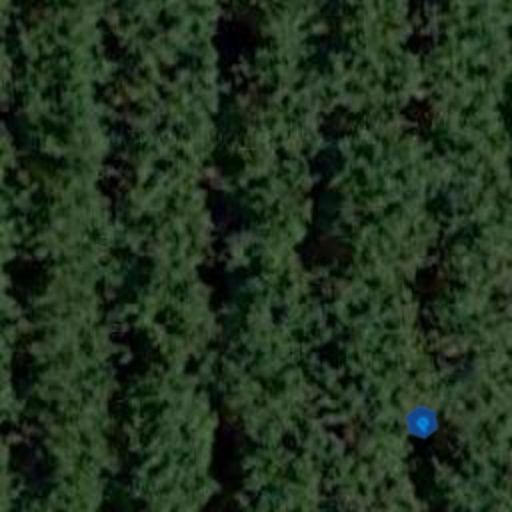hexagon: (396, 396, 448, 448)
